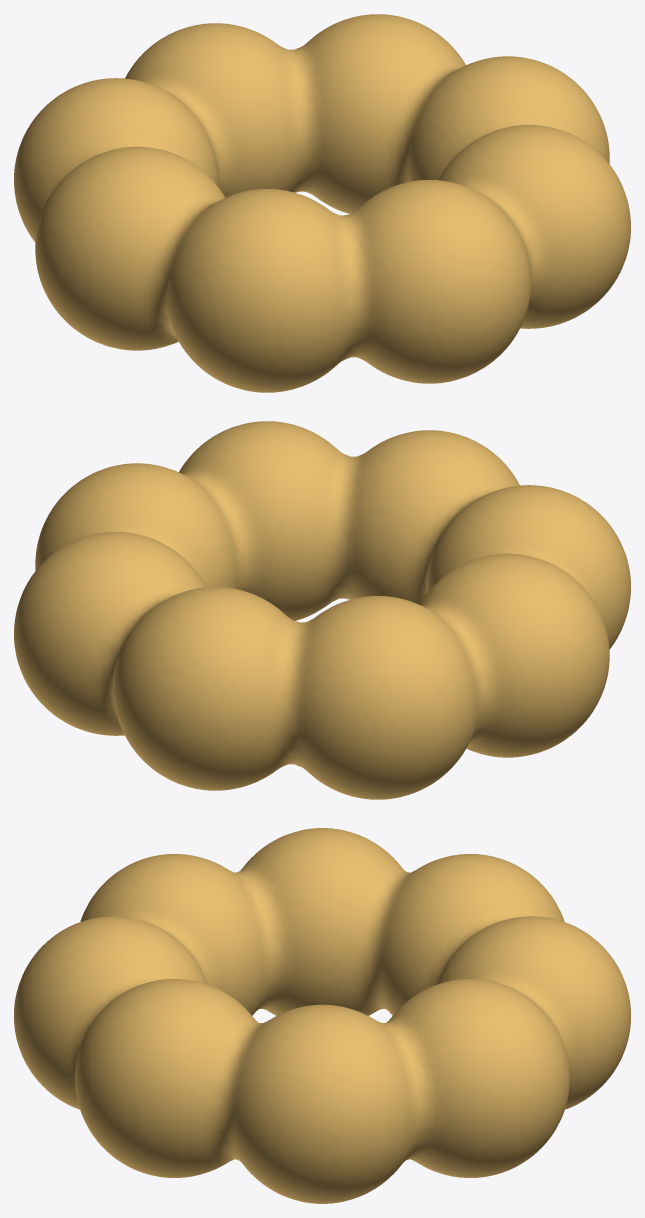
File: ponderingadobedimention.glb
The picture shows the model from 3 angles, top to bottom: view 1: azimuth 30°, elevation 25°; view 2: azimuth 150°, elevation 25°; view 3: azimuth 270°, elevation 25°; orthographic projection. The views are drawn at different scales.
Parts seen in each view (by area): view 1: off; view 2: off; view 3: off.
Part boxes in pixels (bbox=[...]): off: bbox=[14, 14, 630, 392]; off: bbox=[14, 421, 630, 799]; off: bbox=[14, 828, 630, 1203].
Bounding box in the file's own units: 0.0738 × 0.0238 × 0.0738.
